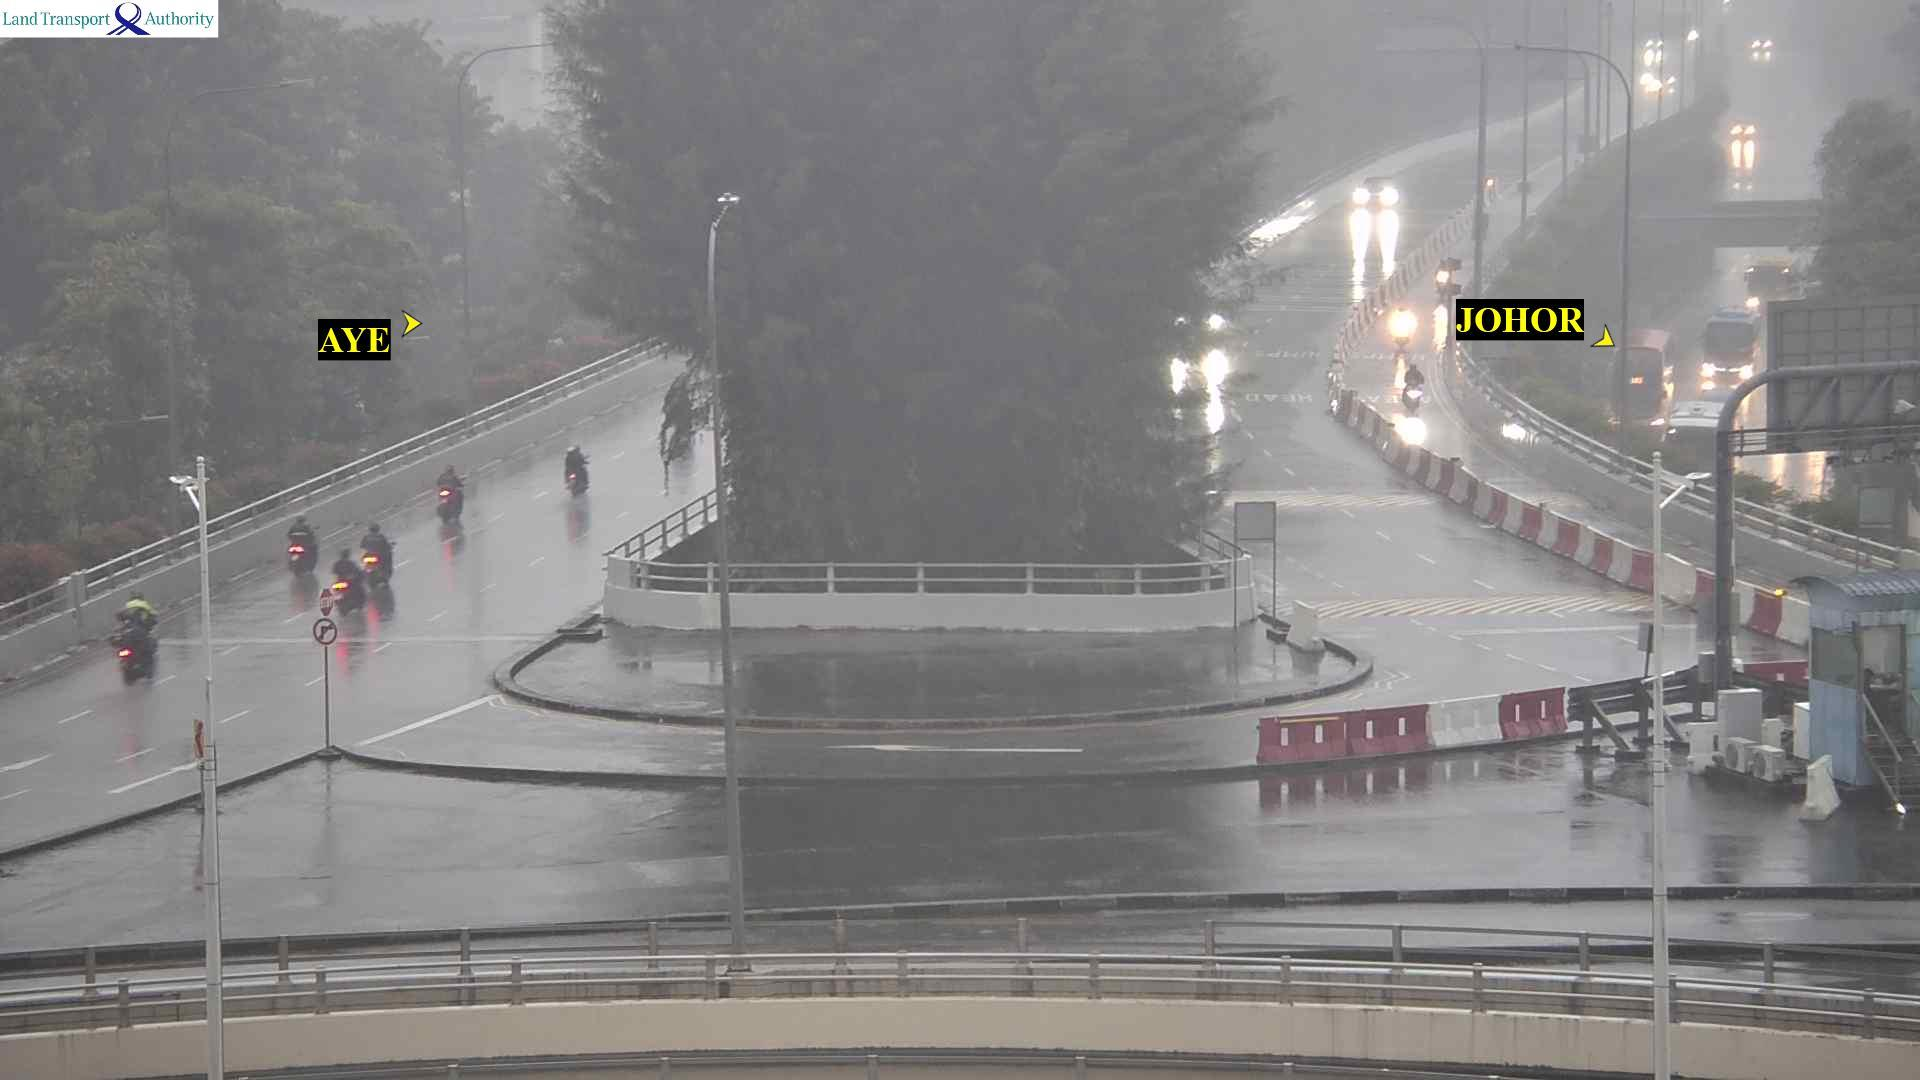vehicle-secondlink-johor: (1353, 174, 1402, 210), (1400, 363, 1423, 409), (1436, 257, 1460, 293), (1393, 307, 1411, 348)
vehicle-secondlink-singapore: (117, 591, 162, 686), (280, 504, 320, 575), (431, 459, 463, 522), (367, 516, 394, 587), (562, 446, 597, 497), (334, 549, 360, 612)
